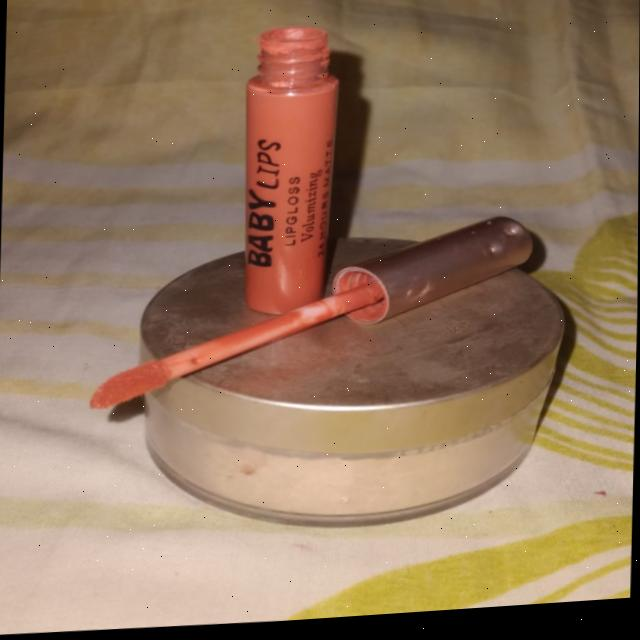lip gloss: (225, 0, 359, 355), (78, 339, 189, 430)
powder: (132, 370, 570, 554)
